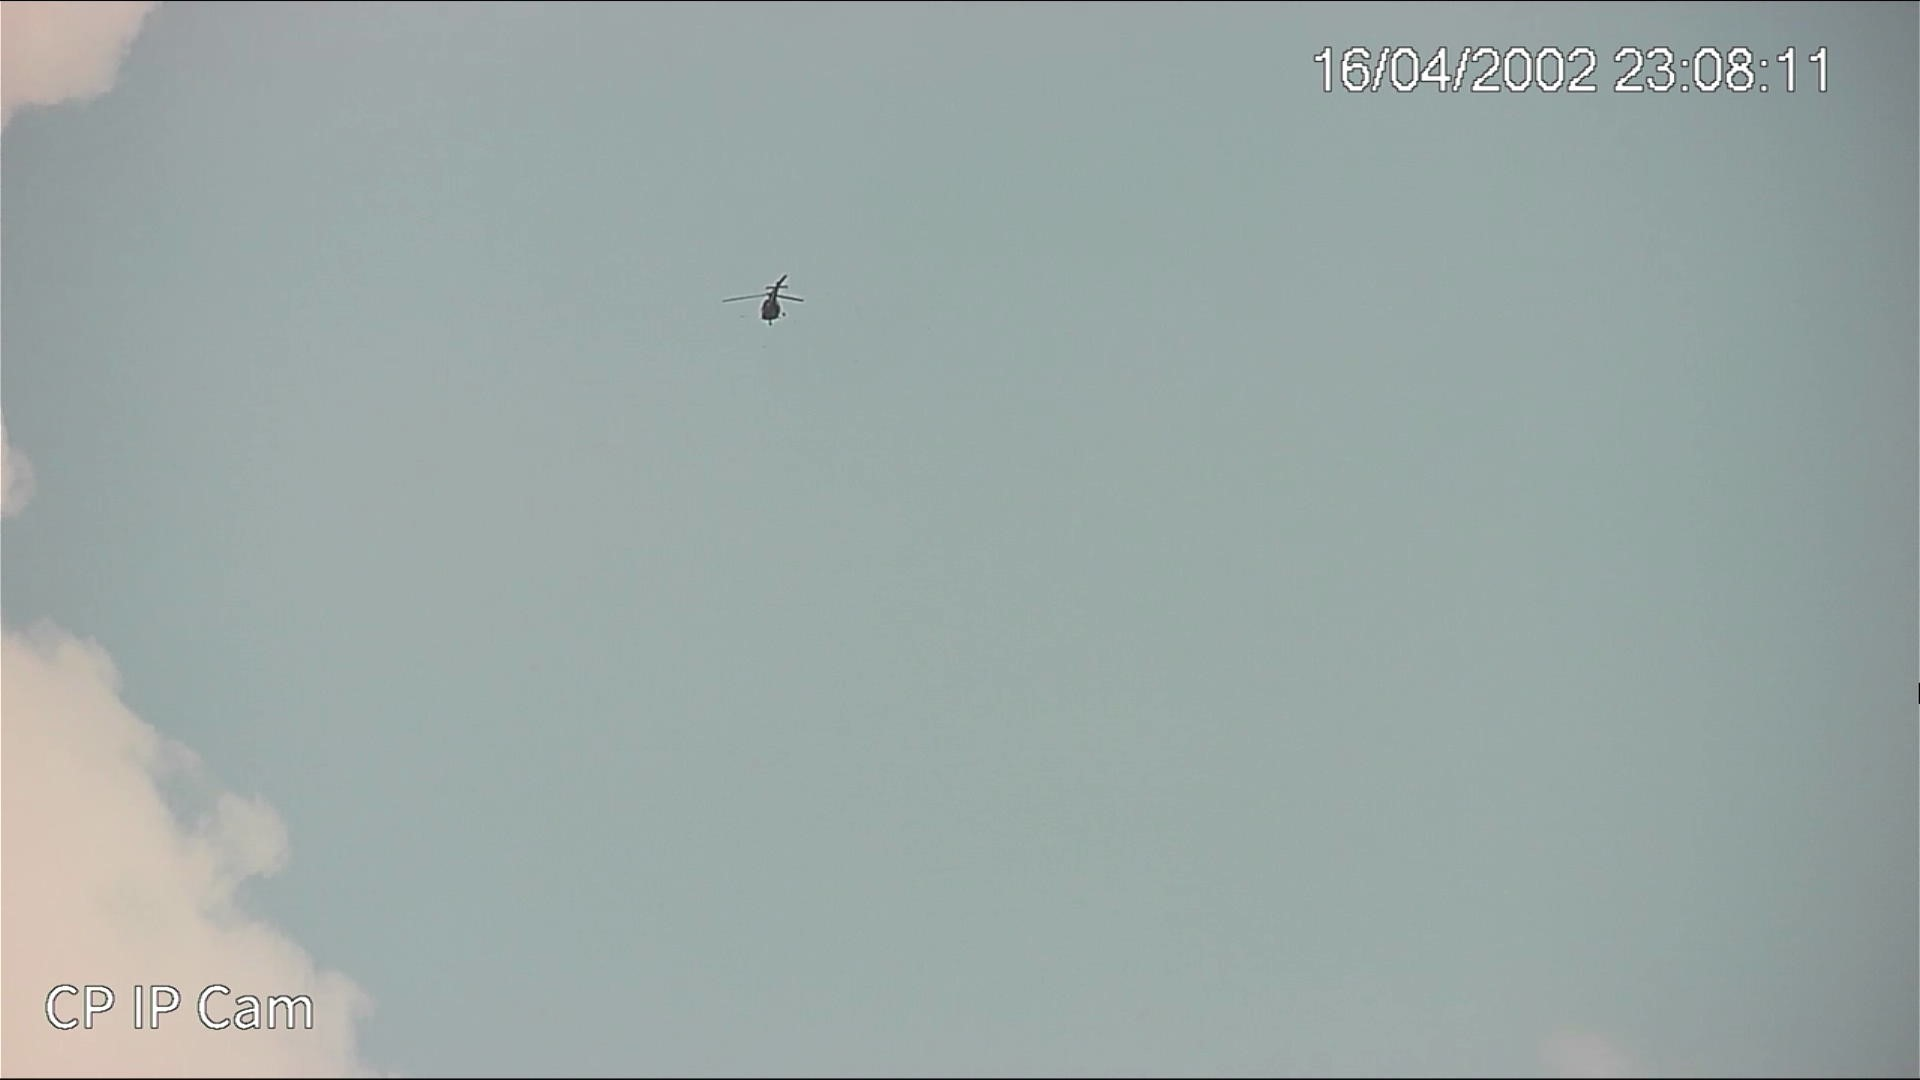SU_30: (723, 274, 806, 324)
